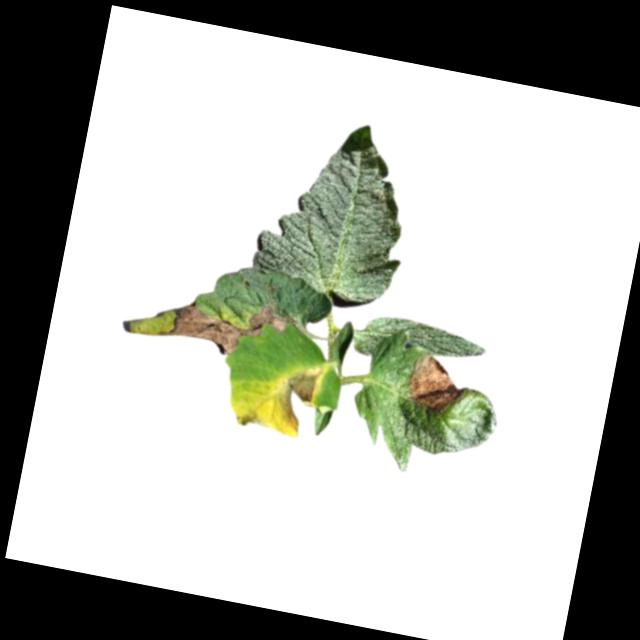Late_blight: (156, 283, 298, 367), (266, 356, 328, 441), (403, 352, 470, 417), (226, 399, 273, 433)
healthy: (248, 108, 424, 309), (350, 308, 491, 378)
